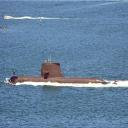submarine: (10, 52, 124, 85)
